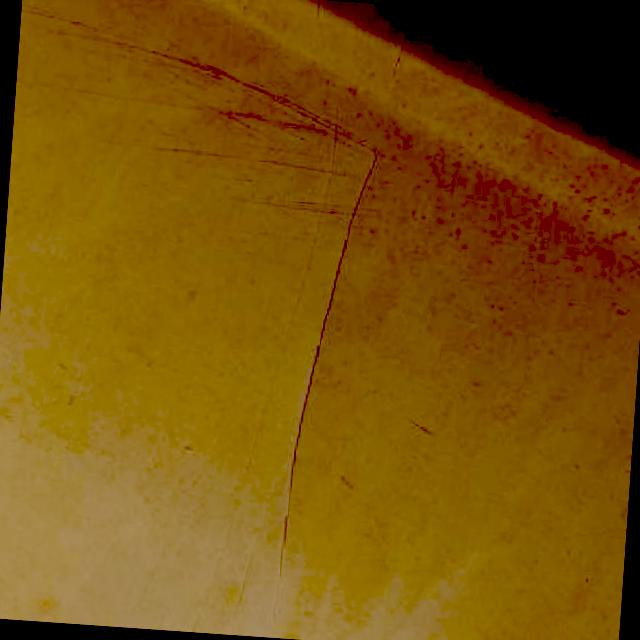crack: (278, 156, 376, 576)
